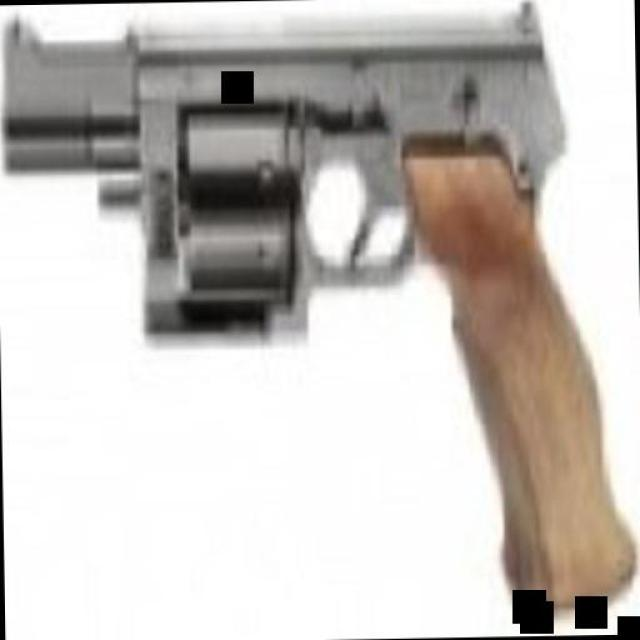gun: (1, 4, 635, 612)
